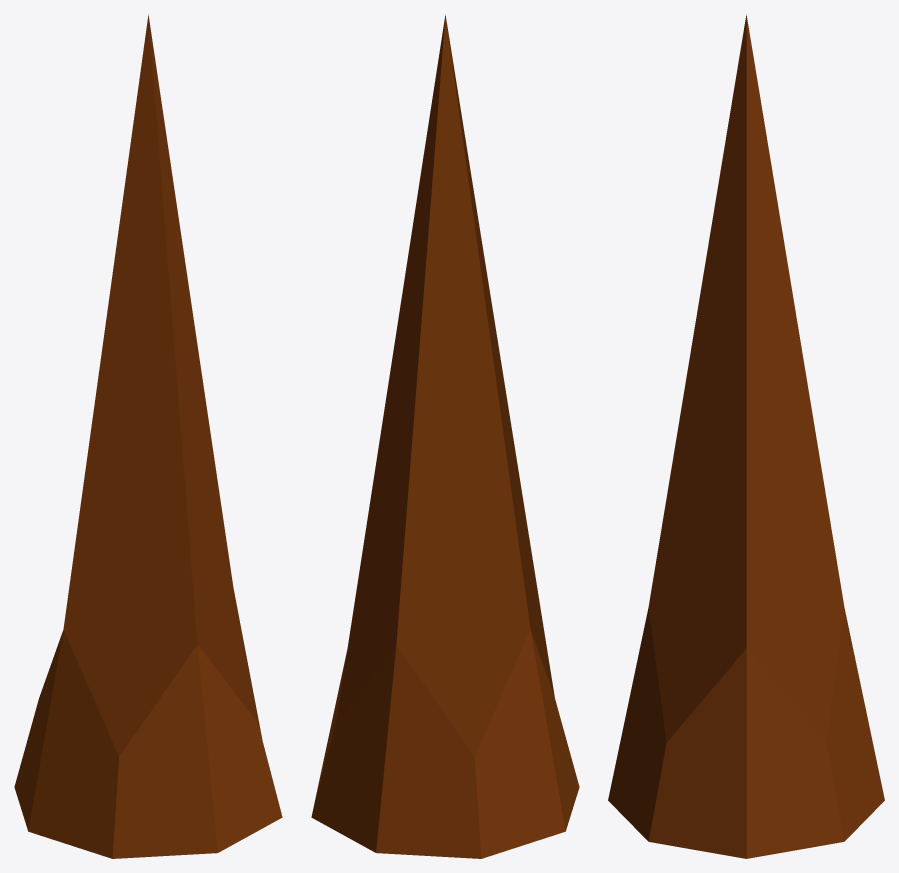
Rendered from estalag 3.fbx.
3 views of the same model, side by side, from view 1: azimuth 30°, elevation 25°; view 2: azimuth 150°, elevation 25°; view 3: azimuth 270°, elevation 25° (orthographic).
Parts seen in each view (by area): view 1: estalagmite; view 2: estalagmite; view 3: estalagmite.
Part boxes in pixels (x1,y1,x2,y2): estalagmite: (14,14,282,858); estalagmite: (311,14,579,858); estalagmite: (608,14,884,858).
Bounding box in the file's own units: 346 × 1085 × 346.
